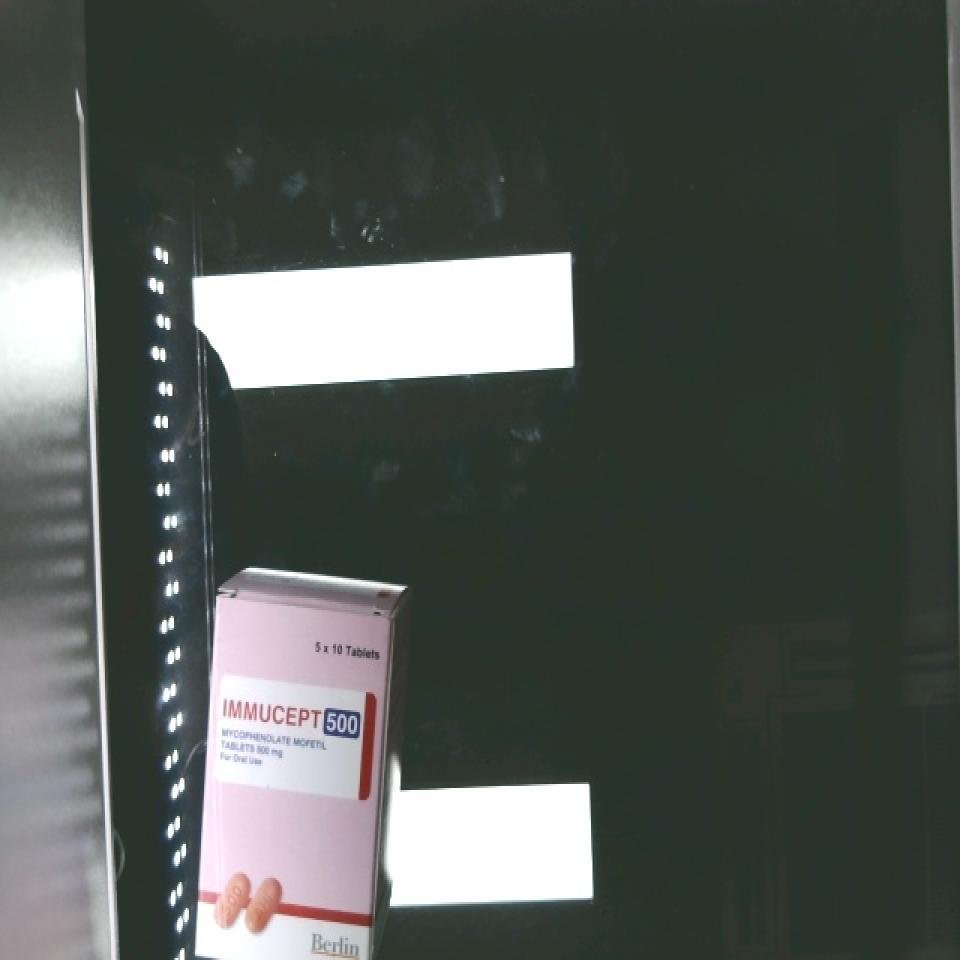medicine_box: (192, 595, 393, 960)
medicine_label_obb: (214, 679, 381, 748)
